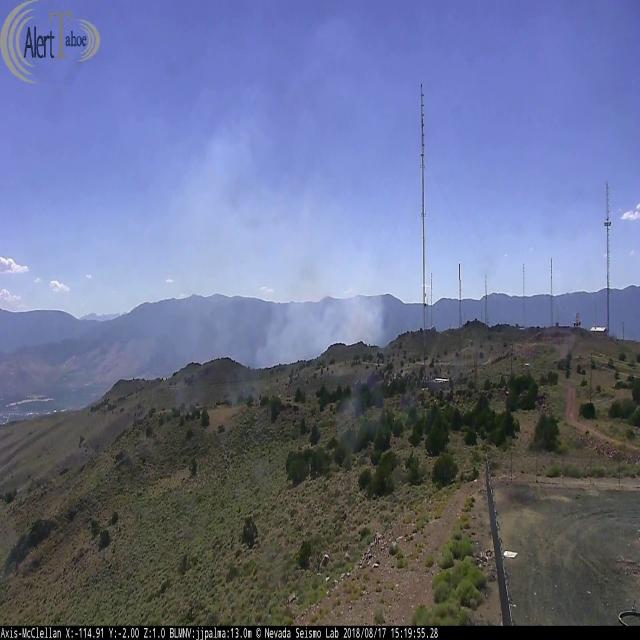smoke: (125, 28, 418, 365)
